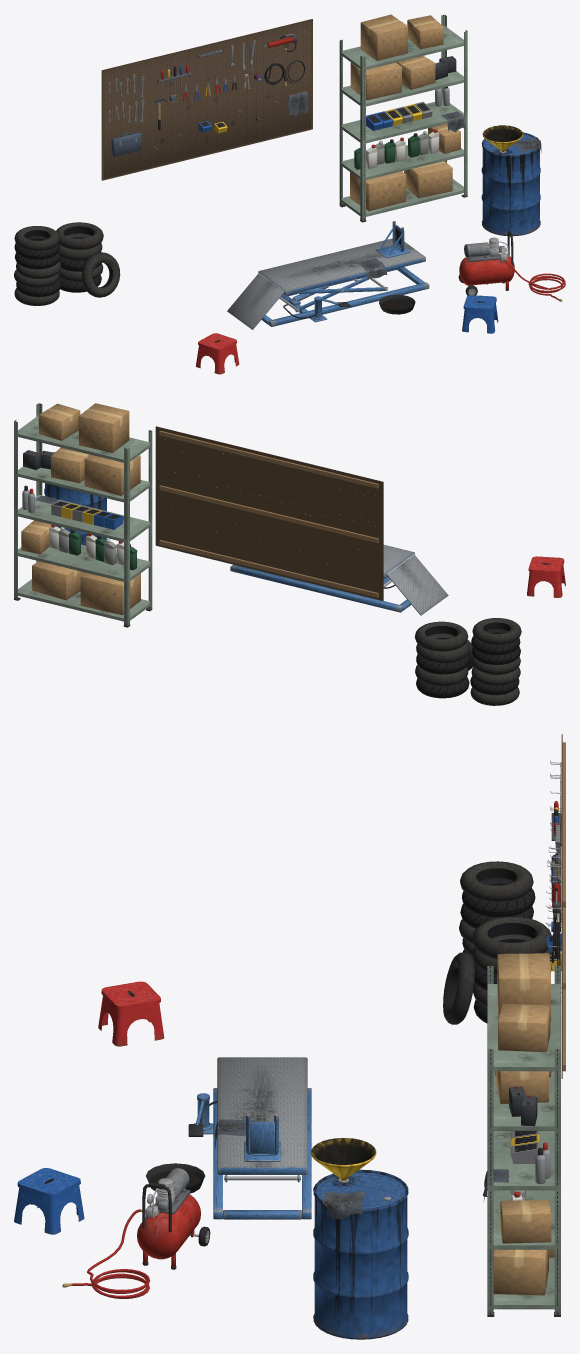
The model's file is scooter_shop_props.glb.
3 views of the same model, one above another, from view 1: azimuth 30°, elevation 25°; view 2: azimuth 150°, elevation 25°; view 3: azimuth 270°, elevation 25° (orthographic). The views are drawn at different scales.
Visible parts, largest first — view 1: SHOP_TOOL_WALL, SHOP_PARTS_SHELF, SHOP_LIFT, SHOP_TIRE_STACK, SHOP_OIL_DRUM, SHOP_AIR_PUMP, SHOP_STOOL_RED, SHOP_STOOL_BLUE; view 2: SHOP_TOOL_WALL, SHOP_PARTS_SHELF, SHOP_TIRE_STACK, SHOP_LIFT, SHOP_STOOL_RED, SHOP_OIL_DRUM; view 3: SHOP_PARTS_SHELF, SHOP_OIL_DRUM, SHOP_LIFT, SHOP_TIRE_STACK, SHOP_AIR_PUMP, SHOP_TOOL_WALL, SHOP_STOOL_BLUE, SHOP_STOOL_RED.
Boxes of the visible parts, x1,y1,x2,y2 form: SHOP_TOOL_WALL: (101, 19, 312, 180); SHOP_PARTS_SHELF: (339, 14, 467, 222); SHOP_LIFT: (227, 221, 429, 329); SHOP_TIRE_STACK: (14, 222, 120, 305); SHOP_OIL_DRUM: (481, 125, 541, 236); SHOP_AIR_PUMP: (458, 230, 565, 301); SHOP_STOOL_RED: (196, 333, 239, 374); SHOP_STOOL_BLUE: (462, 295, 498, 333); SHOP_TOOL_WALL: (155, 426, 383, 600); SHOP_PARTS_SHELF: (14, 403, 152, 627); SHOP_TIRE_STACK: (415, 618, 521, 705); SHOP_LIFT: (230, 545, 448, 615); SHOP_STOOL_RED: (527, 556, 565, 597); SHOP_OIL_DRUM: (44, 452, 106, 545); SHOP_PARTS_SHELF: (483, 953, 560, 1316); SHOP_OIL_DRUM: (311, 1138, 408, 1339); SHOP_LIFT: (146, 1057, 311, 1219); SHOP_TIRE_STACK: (443, 861, 552, 1024); SHOP_AIR_PUMP: (62, 1168, 210, 1298); SHOP_TOOL_WALL: (545, 734, 565, 1078); SHOP_STOOL_BLUE: (14, 1168, 84, 1234); SHOP_STOOL_RED: (98, 981, 164, 1046).
Bounding box in the file's own units: 5.44 × 2.11 × 3.36.
Materials: 1 (1 with a texture image).
